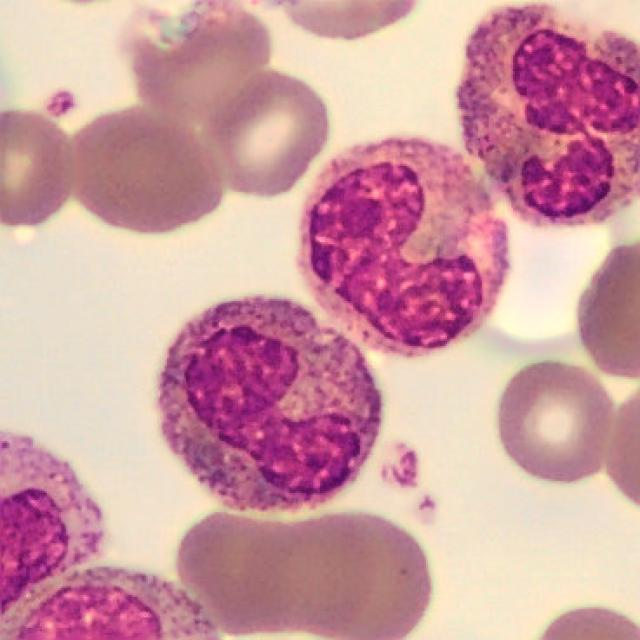Bastonete: (158, 298, 384, 517), (296, 138, 510, 358)
Neutrofilo segmentado: (456, 7, 640, 228)
